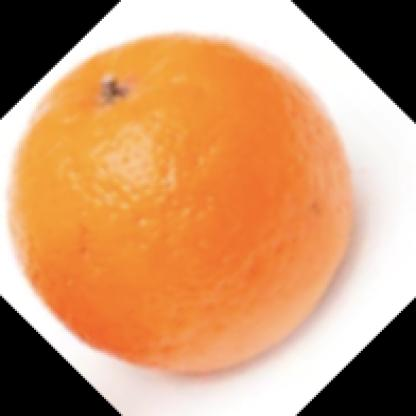fresh: (13, 32, 349, 382)
